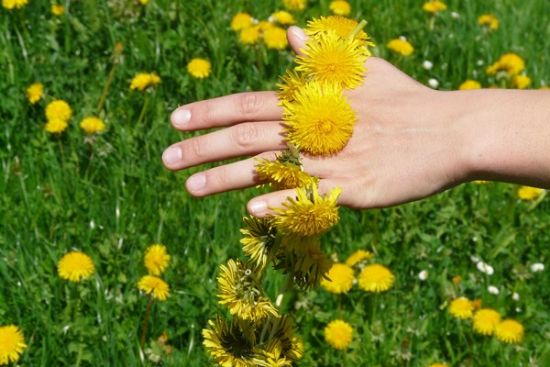begonvil: (277, 71, 359, 160), (289, 18, 375, 95), (318, 251, 403, 306), (278, 189, 344, 249), (135, 248, 184, 310), (0, 324, 45, 367), (57, 248, 96, 294), (322, 319, 373, 350)
